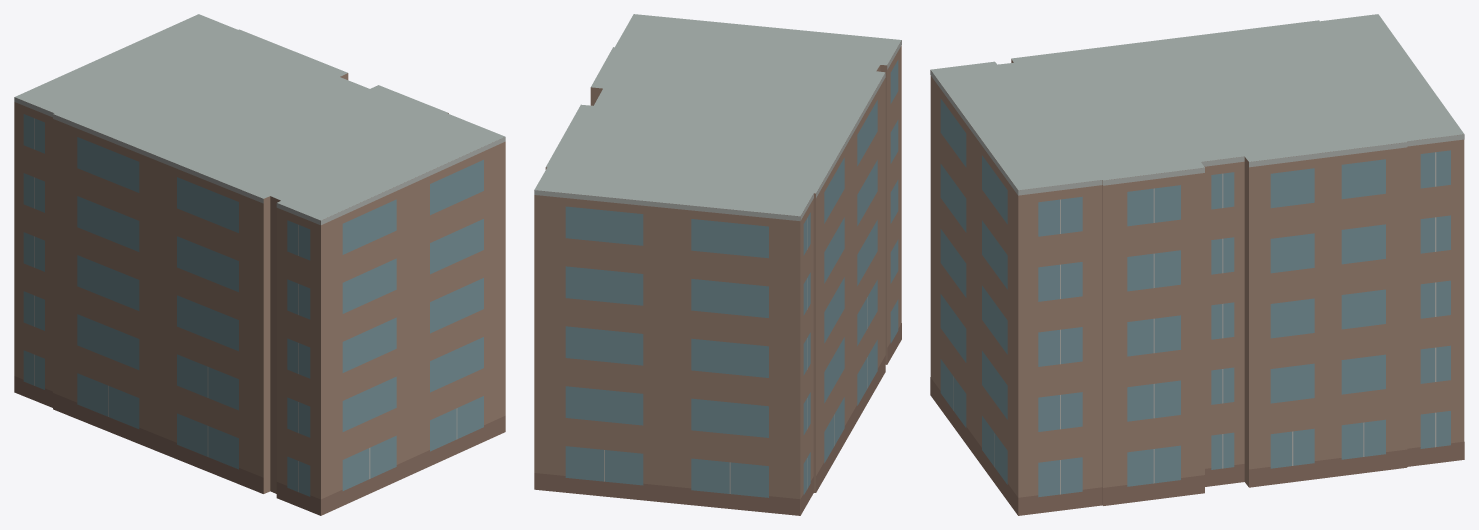
The model's file is survey-upis-32669382.glb.
The picture shows the model from 3 angles, left to right: view 1: azimuth 30°, elevation 25°; view 2: azimuth 150°, elevation 25°; view 3: azimuth 270°, elevation 25°; orthographic projection. The views are drawn at different scales.
Parts seen in each view (by area): view 1: survey-upis-32669382.tmp; view 2: survey-upis-32669382.tmp; view 3: survey-upis-32669382.tmp.
Boxes of the visible parts, x1,y1,x2,y2 form: survey-upis-32669382.tmp: (14,14,505,515); survey-upis-32669382.tmp: (534,14,901,515); survey-upis-32669382.tmp: (930,14,1464,515).
Size of the model in its own units: 17.44 by 15.01 by 22.32.
